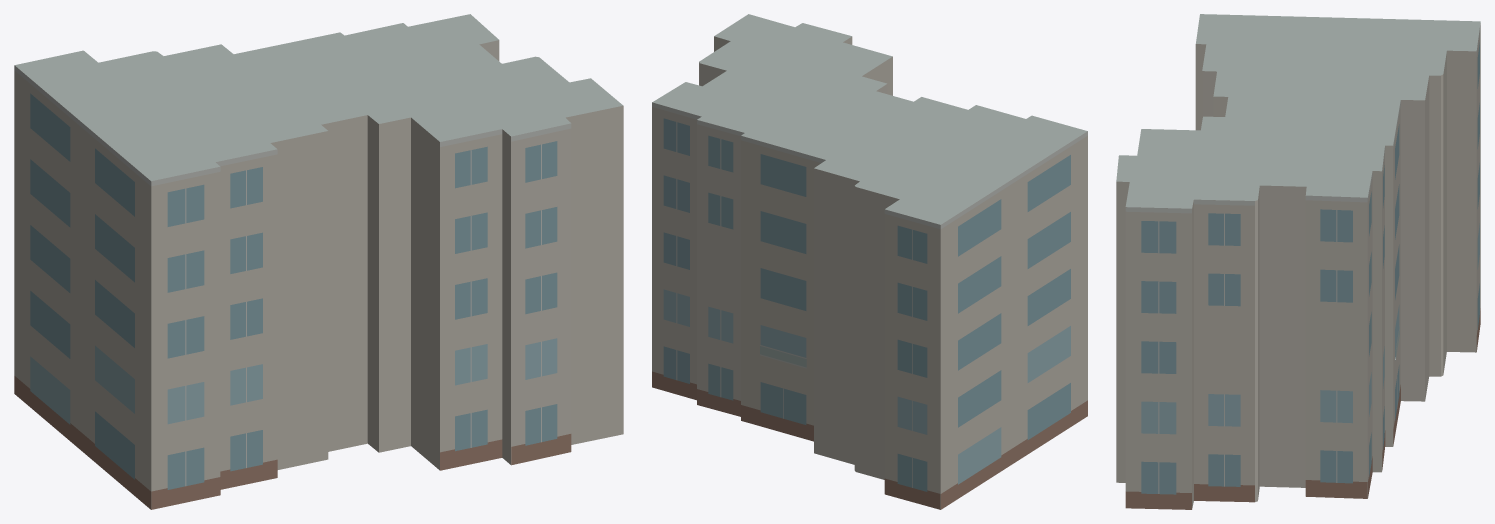
The model's file is survey-upis-32901381.glb.
3 views of the same model, side by side, from view 1: azimuth 30°, elevation 25°; view 2: azimuth 150°, elevation 25°; view 3: azimuth 270°, elevation 25° (orthographic). The views are drawn at different scales.
Parts seen in each view (by area): view 1: survey-upis-32901381.tmp; view 2: survey-upis-32901381.tmp; view 3: survey-upis-32901381.tmp.
Boxes of the visible parts, x1,y1,x2,y2 form: survey-upis-32901381.tmp: (14,14,623,509); survey-upis-32901381.tmp: (652,14,1087,509); survey-upis-32901381.tmp: (1116,14,1480,509).
Bounding box in the file's own units: 21.71 × 15.65 × 17.17.
